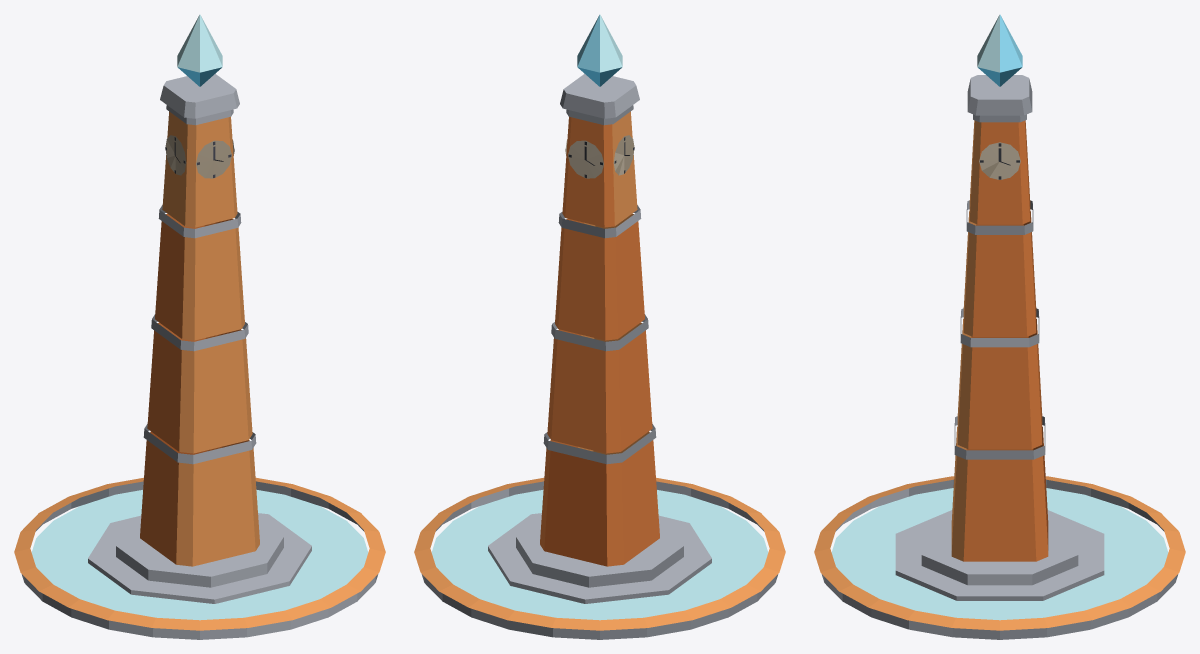
Rendered from landmark.glb.
The picture shows the model from 3 angles, left to right: view 1: azimuth 30°, elevation 25°; view 2: azimuth 150°, elevation 25°; view 3: azimuth 270°, elevation 25°; orthographic projection.
Parts seen in each view (by area): view 1: obelisk; view 2: obelisk; view 3: obelisk.
Boxes of the visible parts, x1,y1,x2,y2 form: obelisk: (14, 14, 385, 639); obelisk: (414, 14, 785, 639); obelisk: (814, 14, 1185, 639).
Size of the model in its own units: 18.4 by 30 by 18.4.
Materials: 1 (1 with a texture image).
